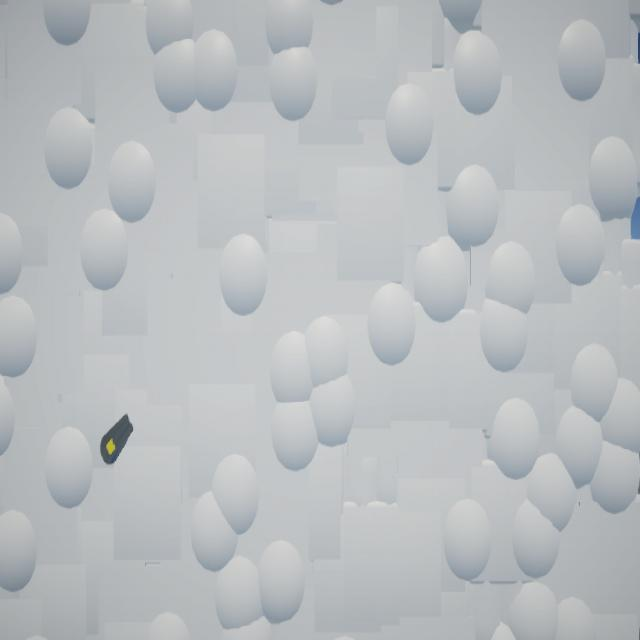handle_folk: (101, 415, 135, 467)
